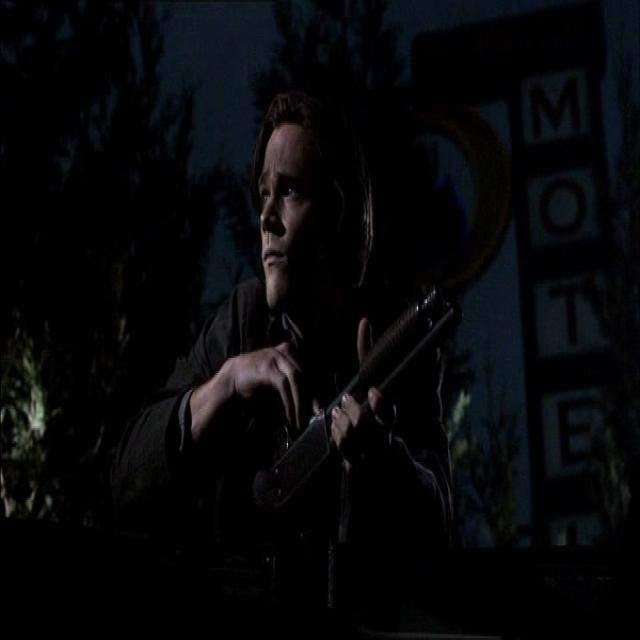rifle: (265, 285, 461, 534)
